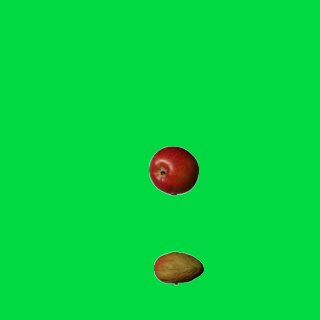Apple Braeburn: (148, 145, 198, 195)
Papaya: (153, 243, 203, 293)
